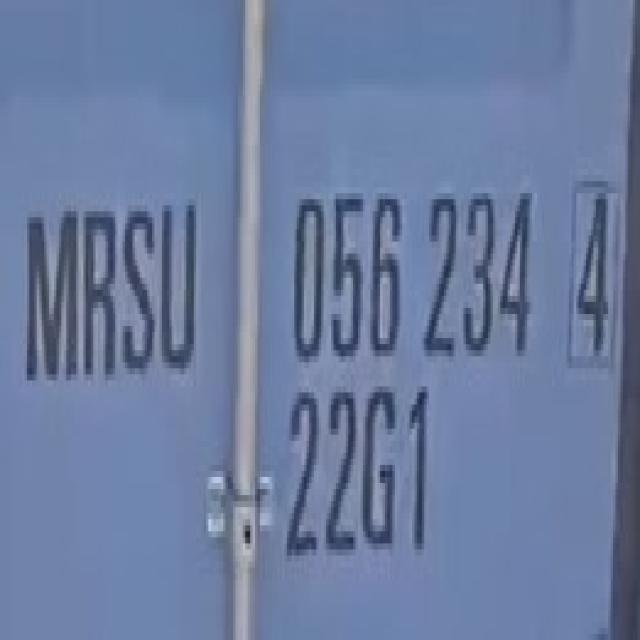dv: (561, 152, 622, 388)
owner: (11, 168, 214, 416)
serial: (288, 156, 548, 384)
size: (277, 363, 441, 580)
